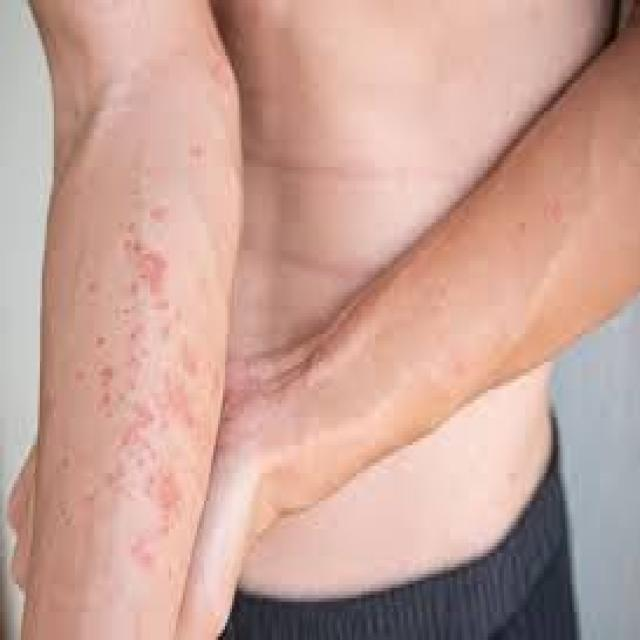Eczema: (73, 194, 219, 589)
